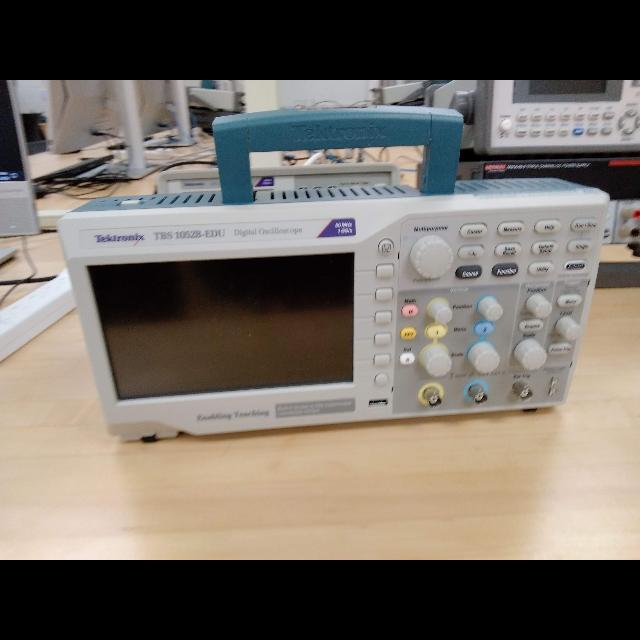Digital-Oscilloscope: (56, 200, 602, 433)
